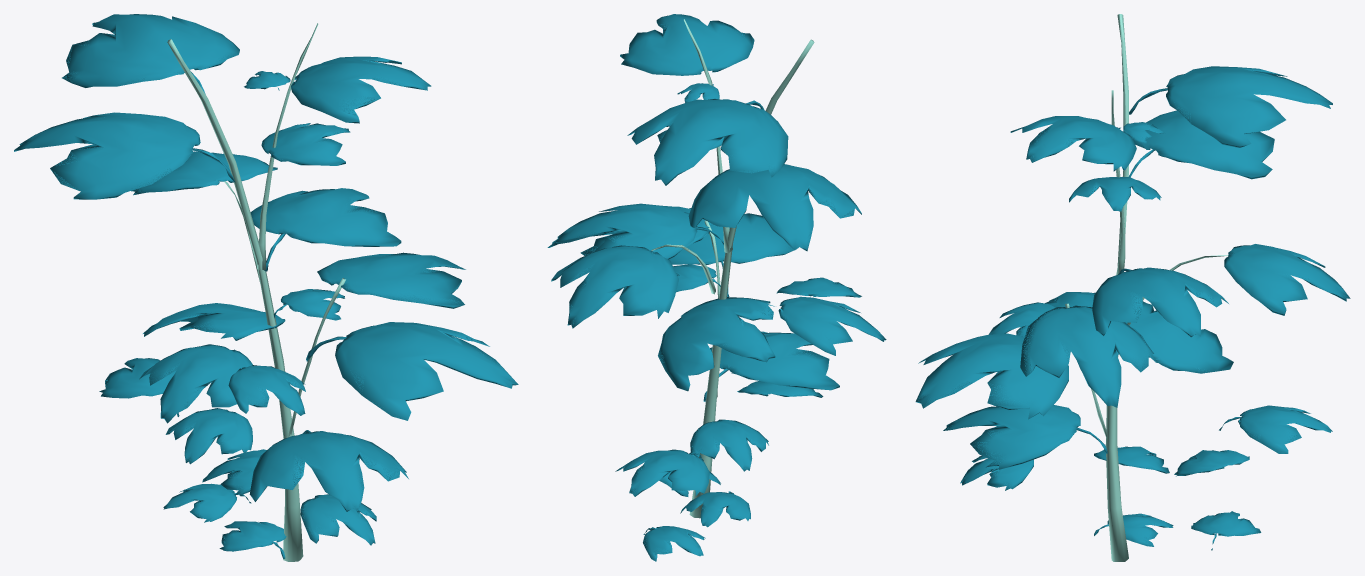
File: guanmu4.obj
3 views of the same model, side by side, from view 1: azimuth 30°, elevation 25°; view 2: azimuth 150°, elevation 25°; view 3: azimuth 270°, elevation 25° (orthographic). The views are drawn at different scales.
Visible parts, largest first — view 1: Plane27, Plane22, Plane21, Plane31, Plane32, Plane25, Plane24, Plane36, Line01, Plane41, Plane42, Plane26 (+9 smaller); view 2: Plane21, Plane27, Plane20, Plane42, Plane24, Plane32, Plane31, Plane36, Plane22, Plane28, Plane23, Line01 (+8 smaller); view 3: Plane21, Plane25, Plane22, Plane32, Plane31, Plane20, Plane27, Plane24, Plane42, Line01, Plane28, Plane26 (+7 smaller).
Boxes of the visible parts, x1=… form: Plane27: x1=14, y1=112, x2=235, y2=199; Plane22: x1=306, y1=322, x2=518, y2=420; Plane21: x1=62, y1=14, x2=239, y2=94; Plane31: x1=249, y1=430, x2=408, y2=511; Plane32: x1=250, y1=188, x2=401, y2=271; Plane25: x1=317, y1=252, x2=465, y2=308; Plane24: x1=291, y1=56, x2=431, y2=123; Plane36: x1=139, y1=344, x2=252, y2=423; Line01: x1=167, y1=39, x2=303, y2=561; Plane41: x1=165, y1=408, x2=252, y2=464; Plane42: x1=143, y1=303, x2=285, y2=340; Plane26: x1=261, y1=123, x2=350, y2=165; Plane21: x1=627, y1=99, x2=788, y2=185; Plane27: x1=688, y1=164, x2=861, y2=251; Plane20: x1=551, y1=245, x2=678, y2=328; Plane42: x1=658, y1=297, x2=775, y2=391; Plane24: x1=620, y1=14, x2=754, y2=75; Plane32: x1=555, y1=203, x2=723, y2=259; Plane31: x1=703, y1=331, x2=839, y2=401; Plane36: x1=778, y1=296, x2=886, y2=355; Plane22: x1=669, y1=208, x2=793, y2=296; Plane28: x1=615, y1=449, x2=709, y2=496; Plane23: x1=690, y1=419, x2=768, y2=471; Line01: x1=689, y1=39, x2=814, y2=518; Plane21: x1=1129, y1=66, x2=1332, y2=147; Plane25: x1=1020, y1=305, x2=1155, y2=407; Plane22: x1=915, y1=333, x2=1070, y2=419; Plane32: x1=1092, y1=267, x2=1228, y2=337; Plane31: x1=943, y1=405, x2=1107, y2=469; Plane20: x1=1224, y1=244, x2=1350, y2=315; Plane27: x1=1128, y1=110, x2=1274, y2=179; Plane24: x1=1010, y1=116, x2=1136, y2=171; Plane42: x1=1125, y1=301, x2=1233, y2=373; Line01: x1=1105, y1=14, x2=1128, y2=561; Plane28: x1=1219, y1=405, x2=1332, y2=453; Plane26: x1=1069, y1=177, x2=1161, y2=211.
Size of the model in its own units: 1.96 by 2.8 by 2.24.
